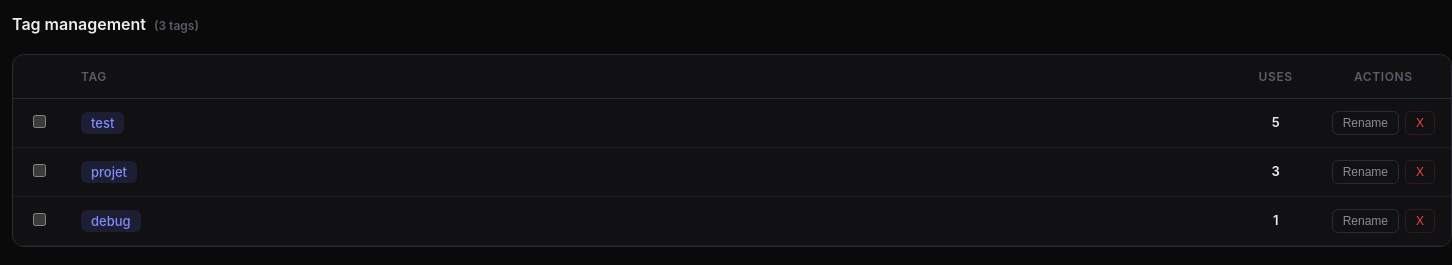
it: Tags › entre en mode edition inline au clic sur renommer
Expected: the text "test" is shown, left=81, top=112, right=124, bottom=134
Step 1. Click the button with aria-label "Renommer" → (1365, 123), box left=1332, top=111, right=1399, bottom=135
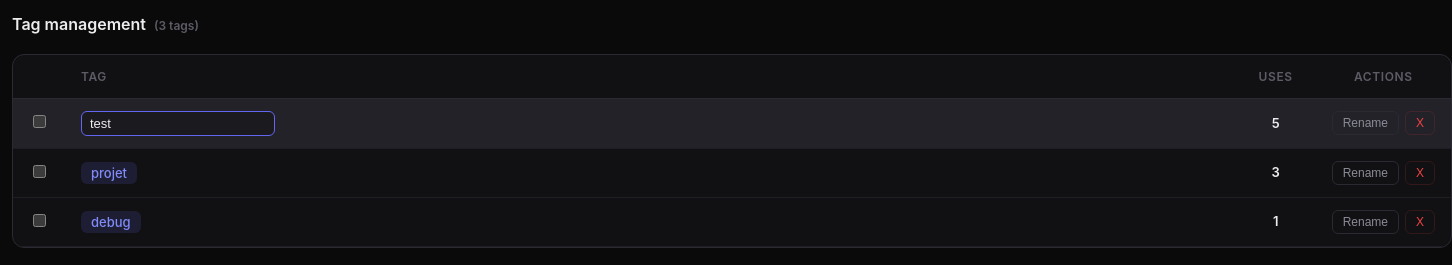
Expected: the field showing "test" is shown, left=81, top=111, right=275, bottom=136
